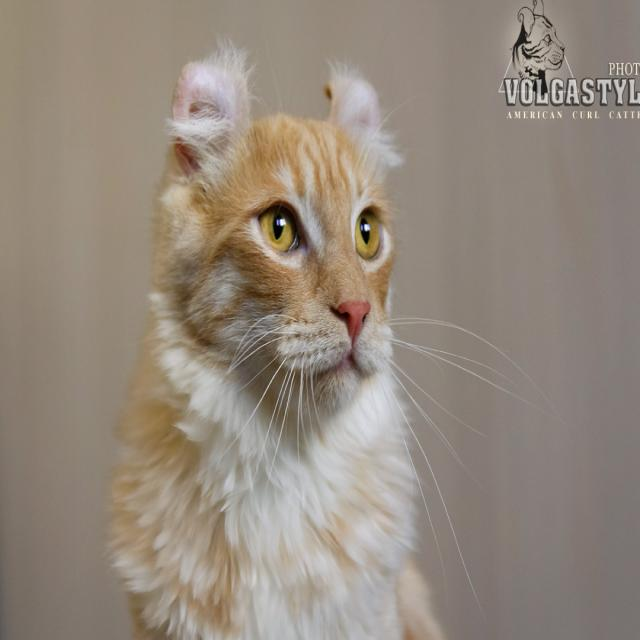American Curl: (102, 45, 464, 640)
